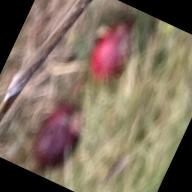Apples: (29, 98, 90, 173), (83, 18, 140, 86)
